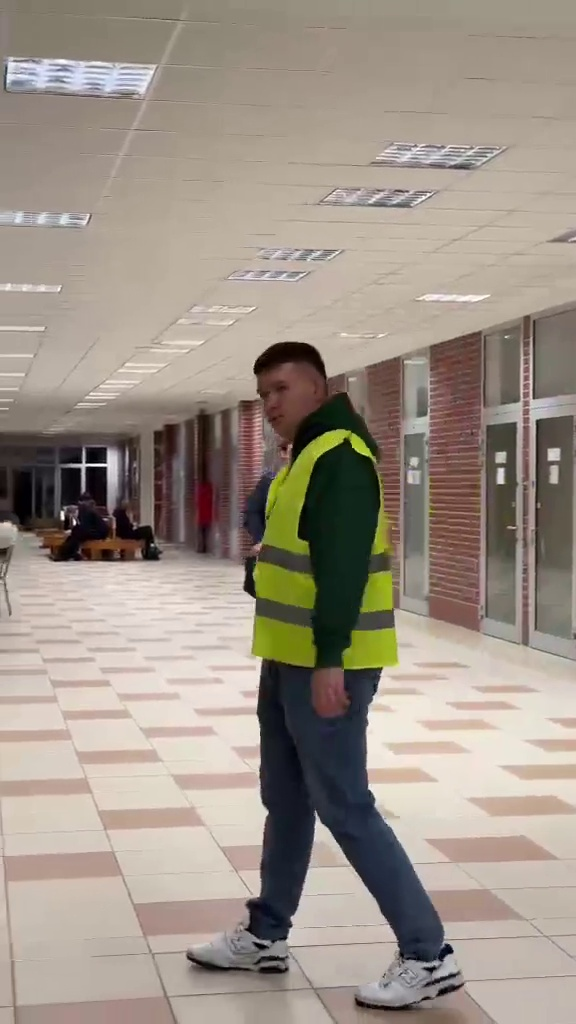vest: (247, 346, 455, 1000)
